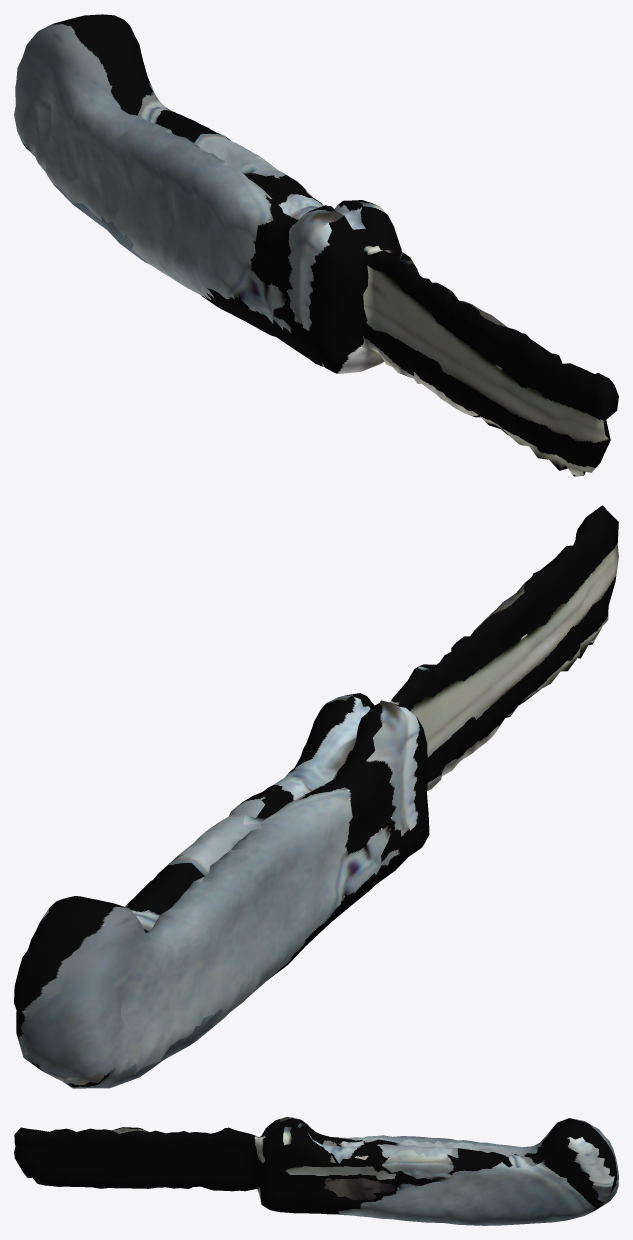
Rendered from scan_align.obj.
The picture shows the model from 3 angles, top to bottom: view 1: azimuth 30°, elevation 25°; view 2: azimuth 150°, elevation 25°; view 3: azimuth 270°, elevation 25°; orthographic projection. The views are drawn at different scales.
Bounding box in the file's own units: 0.0185 × 0.0381 × 0.2059.
